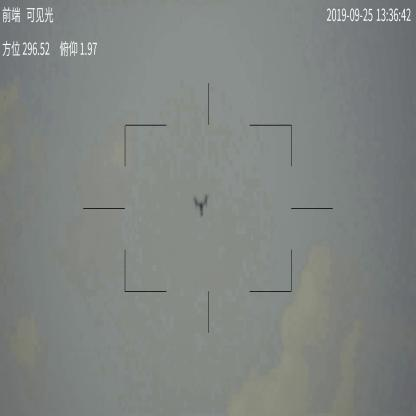uav: (192, 192, 210, 219)
